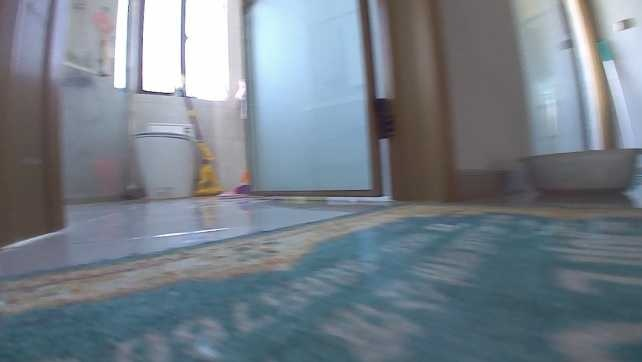blanket: (3, 200, 640, 361)
door_anno: (237, 0, 456, 201)
toilet: (130, 120, 200, 200)
